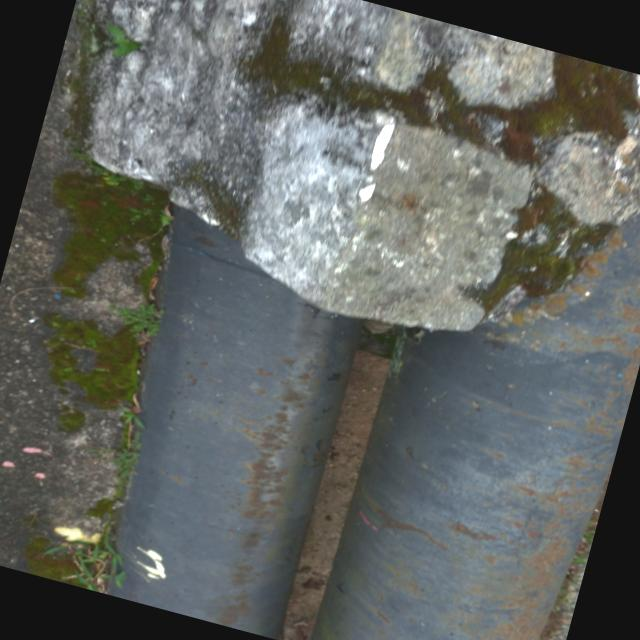gas: (305, 29, 640, 640), (80, 264, 360, 638)
